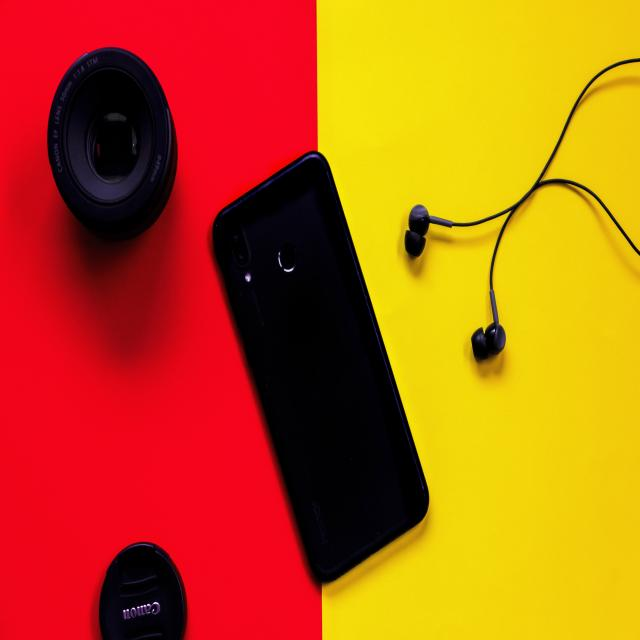Earphone: (404, 56, 640, 362)
